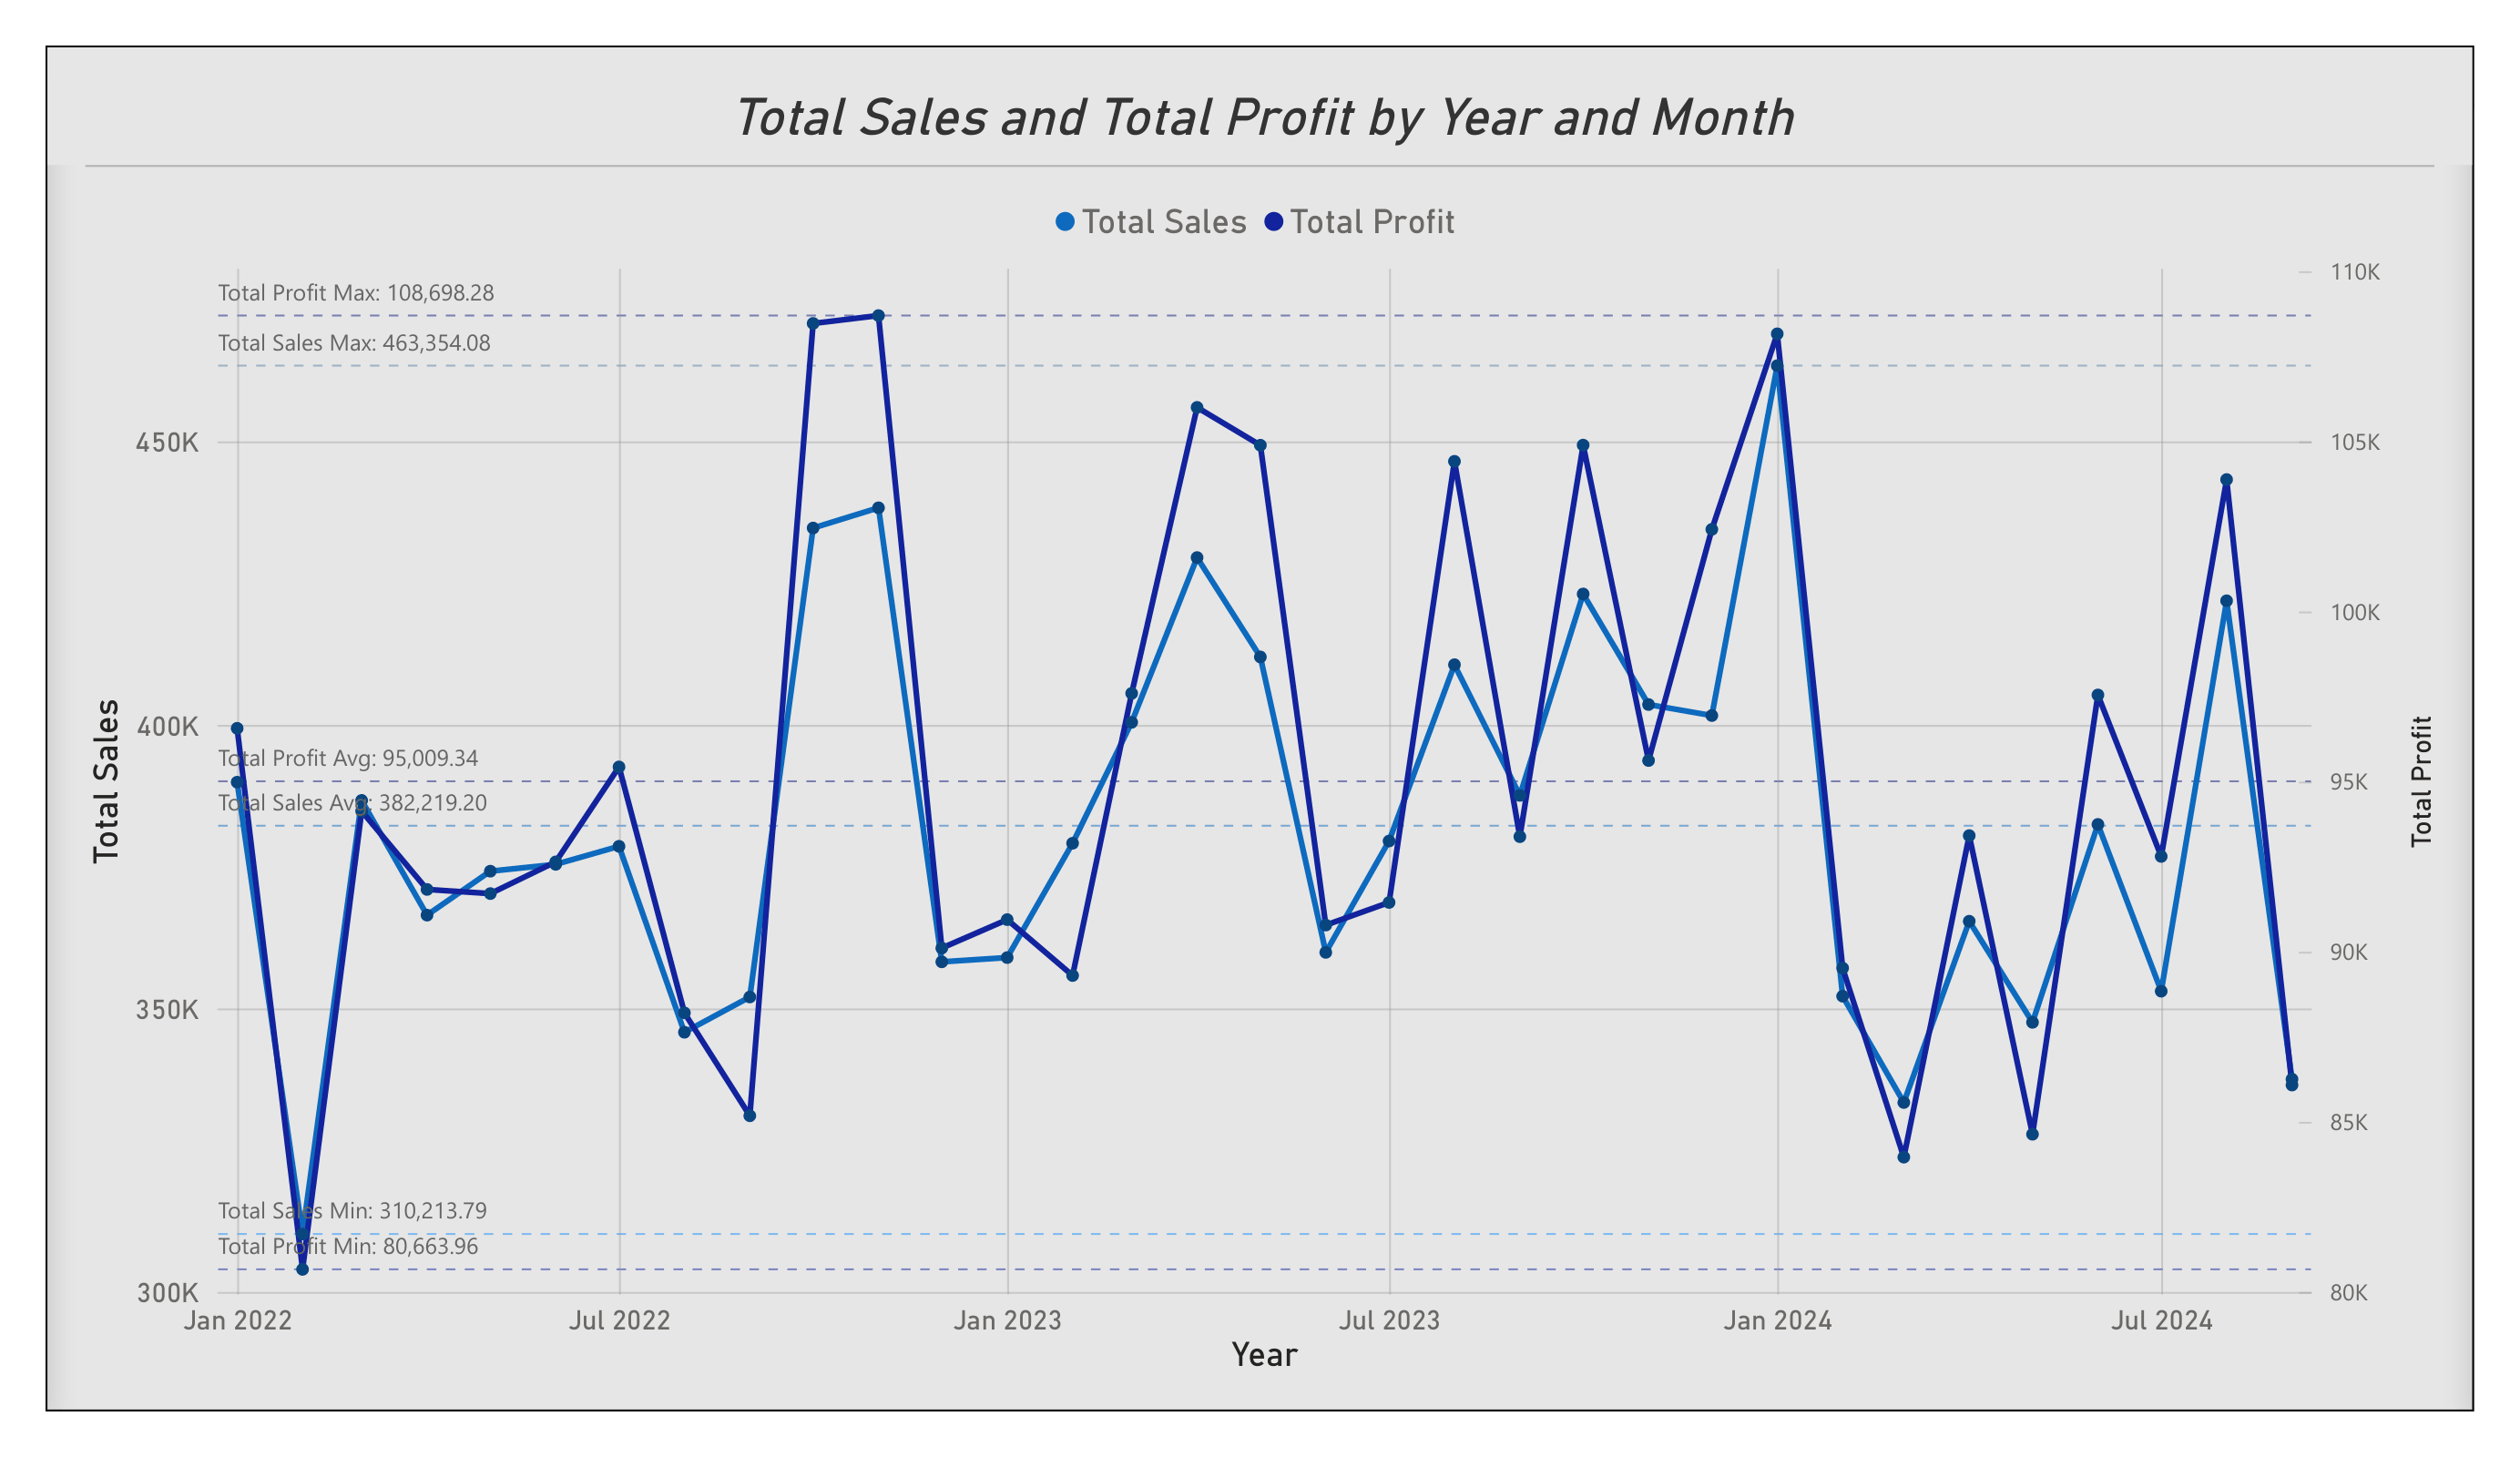

Layout of this report page (visuals, bound fields, positions):
{"tool":"powerbi","page":{"name":"Page 3","canvas":[1280,720],"ordinal":2},"visuals":[{"type":"lineChart","fields":{"Category":["Date.Date.Variation.Date Hierarchy.Year","Date.Date.Variation.Date Hierarchy.Month","Date.Date.Variation.Date Hierarchy.Day"],"Y":["measure.Total Sales"],"Y2":["measure.Total Profit"]},"box":[0,0,1280,720.4],"z":0}]}

Visuals, with their boxes on the page's 1280x720 design canvas (x1, y1, x2, y2). These are canvas units, not pixel positions in the 2520x1457 screenshot, which may show the page scaled, cropped or inside an application window:
lineChart - Date.Date.Variation.Date Hierarchy.Year x Date.Date.Variation.Date Hierarchy.Month: left=0, top=0, right=1280, bottom=720
